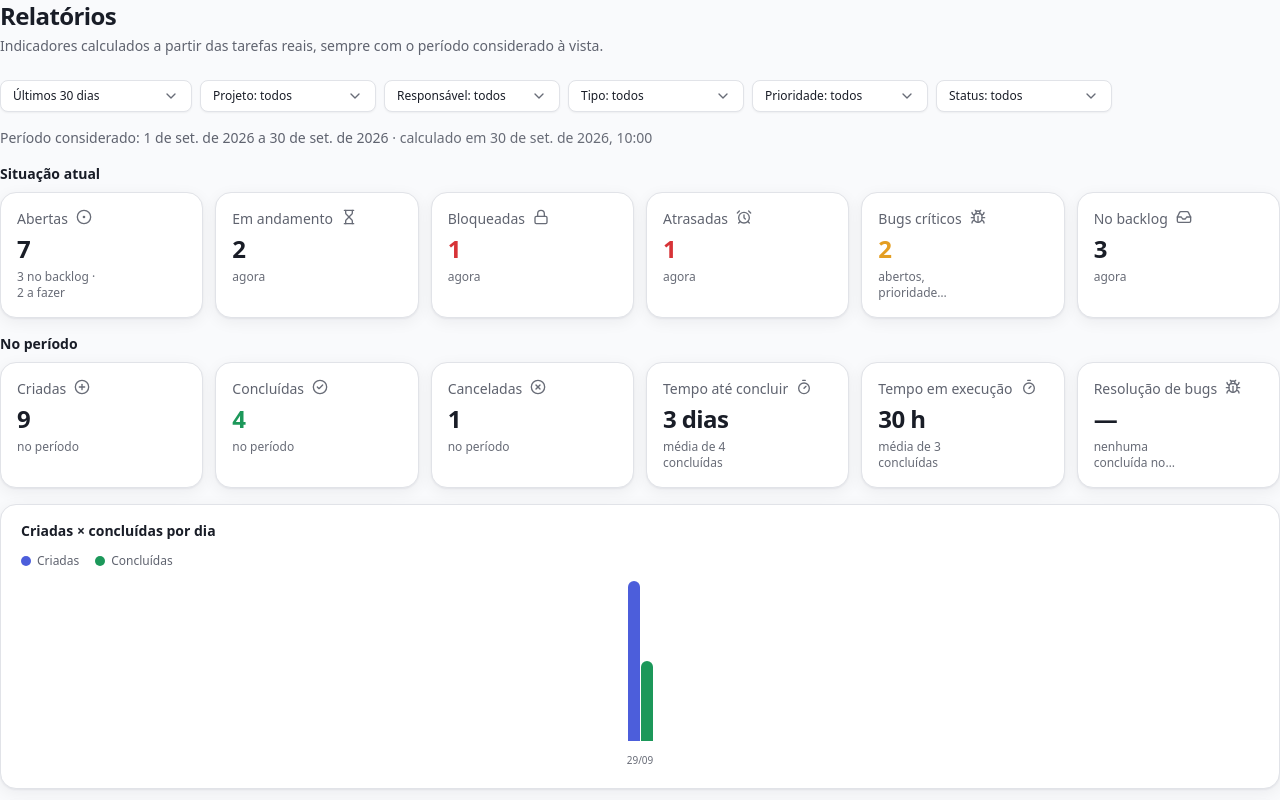
Test: ReportsPage › indicador de tempo mostra a duração de cada tarefa
The image size is (1280, 800).
Click the button "Tempo até concluir 3 dias média de 4 concluídas": coordinates (748, 425) [646,362,849,488]
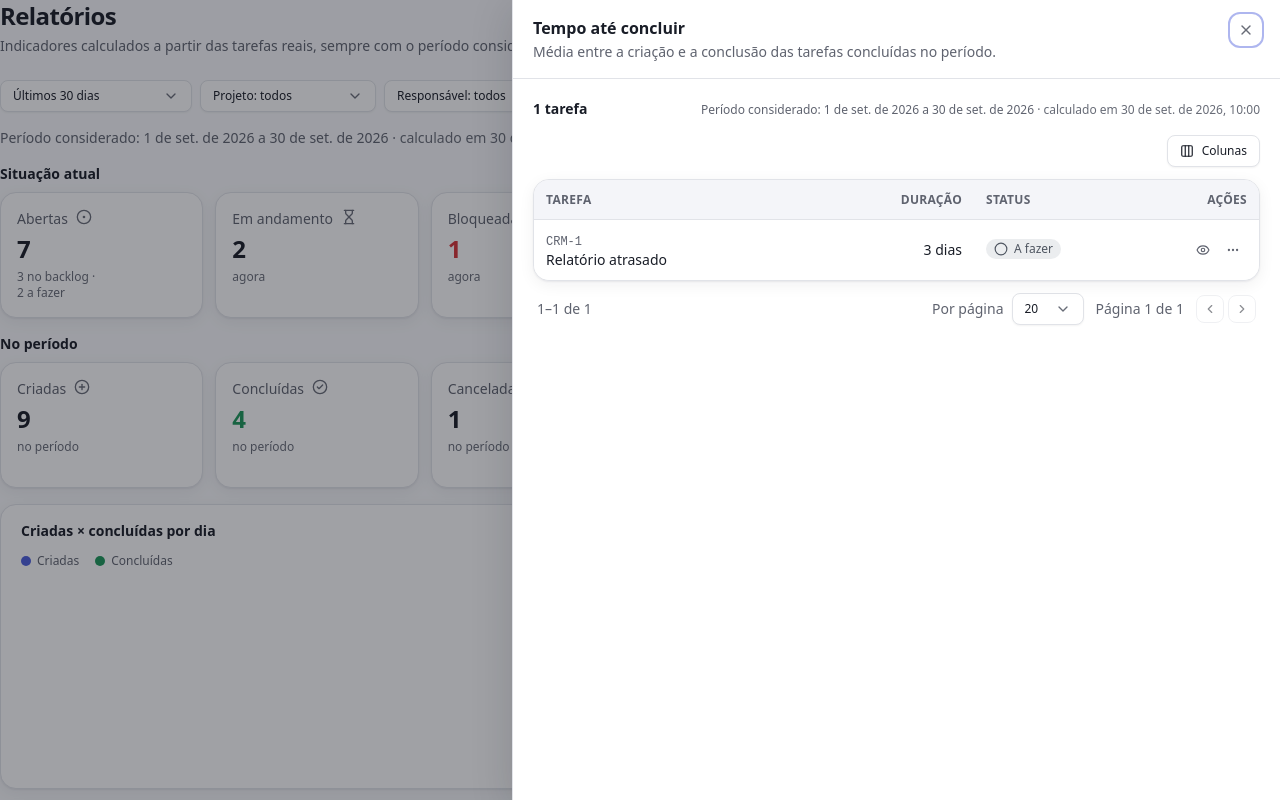
Expected: the column heading "Duração" is shown, [854,180,974,220]
Expected: the text "3 dias" is shown, [924,240,962,259]
